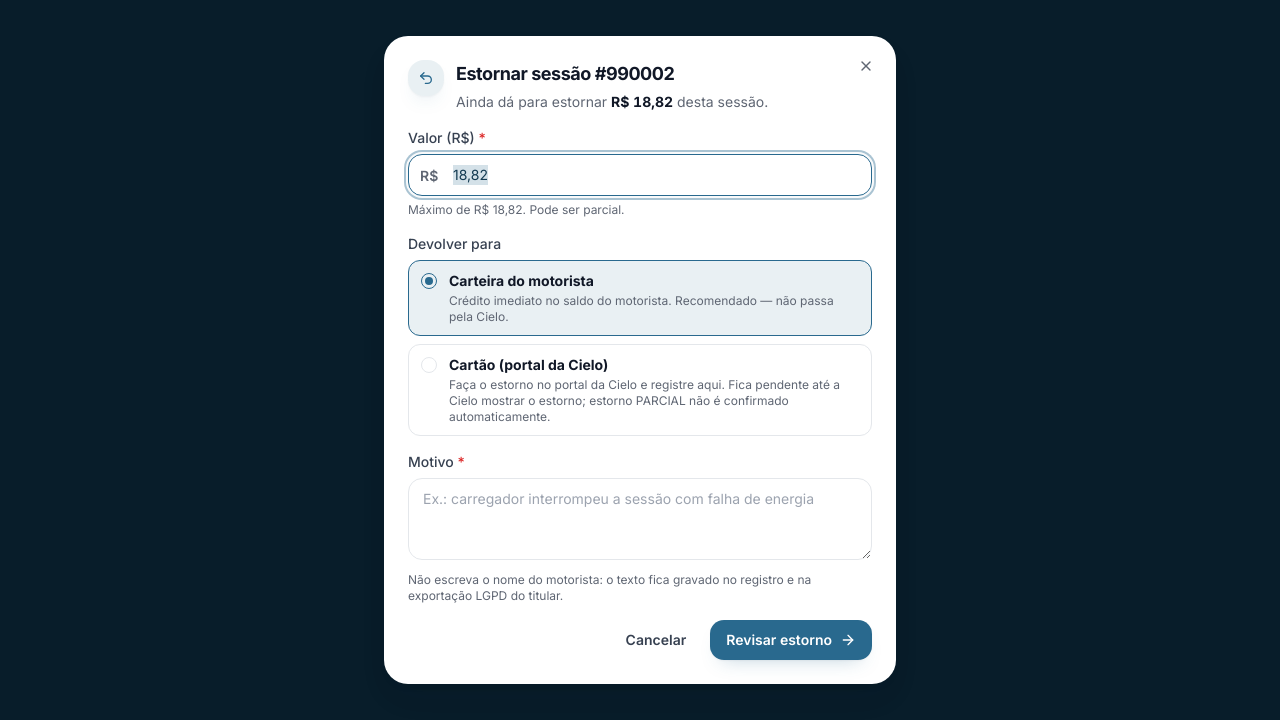
it: RefundFormDialog › motivo que cita o motorista é barrado ANTES da confirmação (o texto fica gravado)
Replace the text in the field labelled "Valor (R$) *" with "5,00" at coordinates (640, 175), box [408, 154, 872, 196]
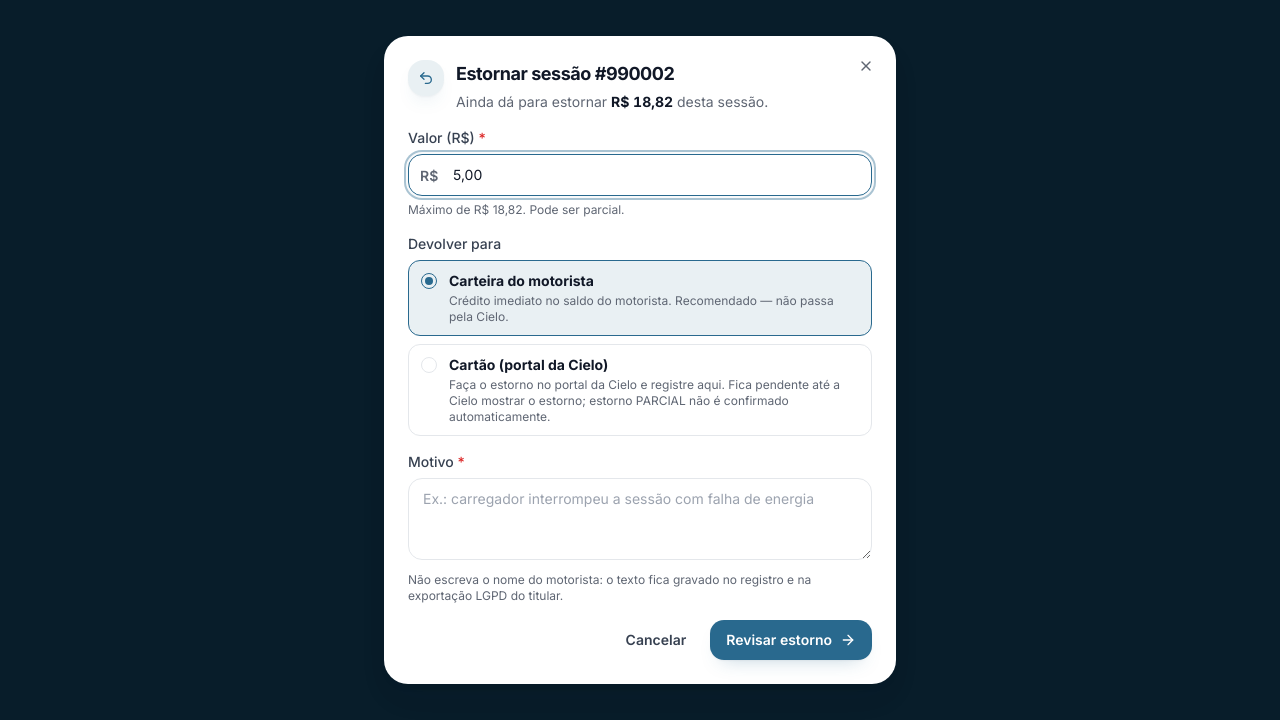
Type "Cortesia para o Tiago pela demora" into the text box labelled "Motivo *" at coordinates (640, 519), box [408, 478, 872, 560]
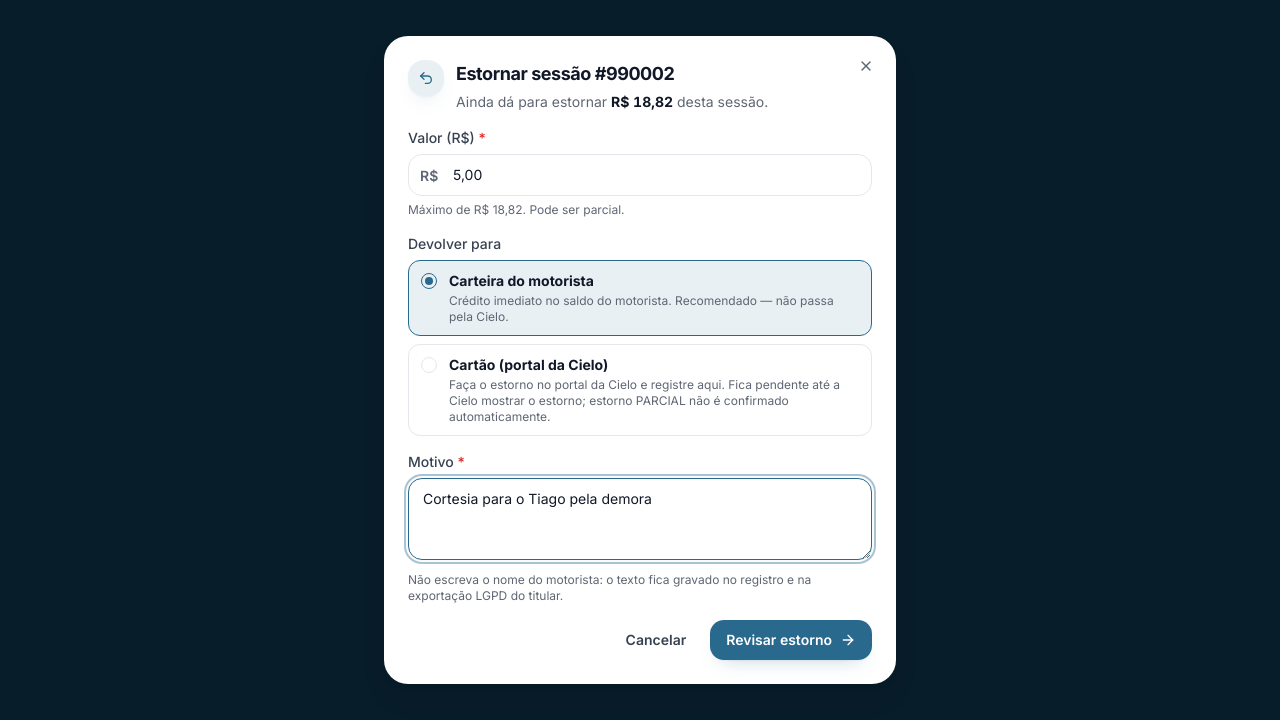
Click the button "Revisar estorno" at coordinates (791, 640), box [710, 620, 872, 660]
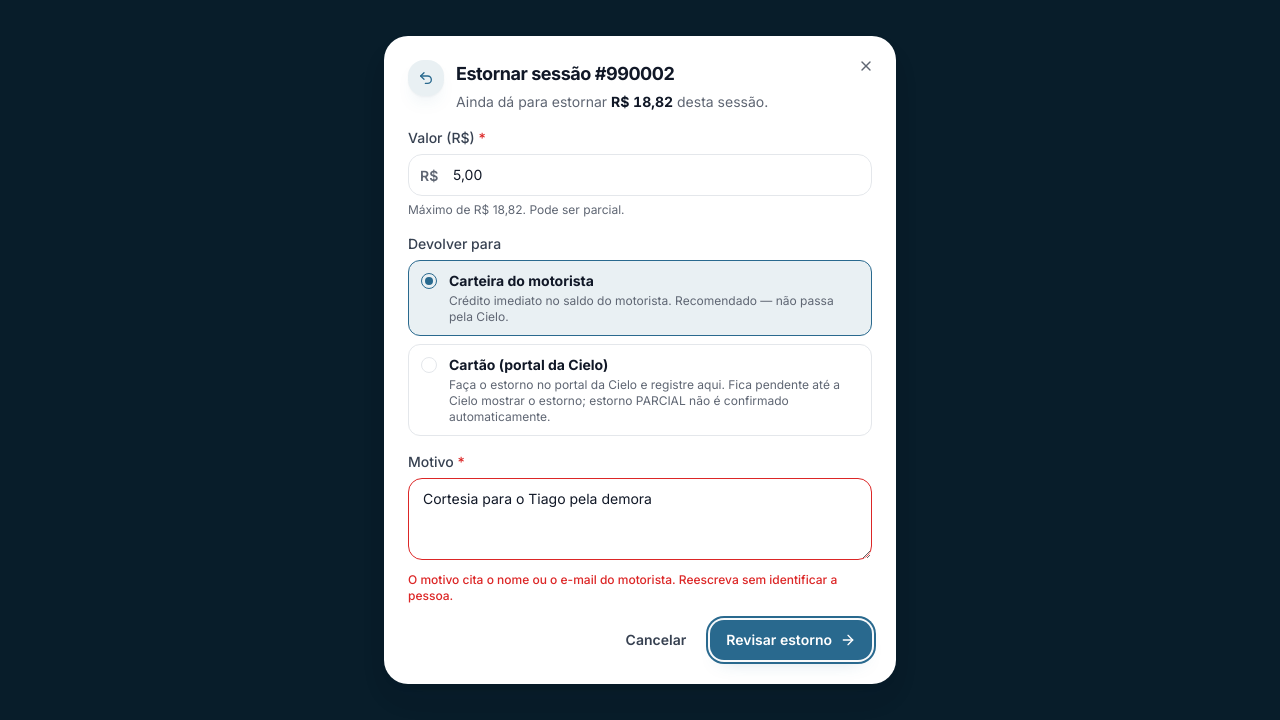
Expected: the text "cita o nome ou o e-mail do motorista" is shown, [408, 572, 837, 603]
